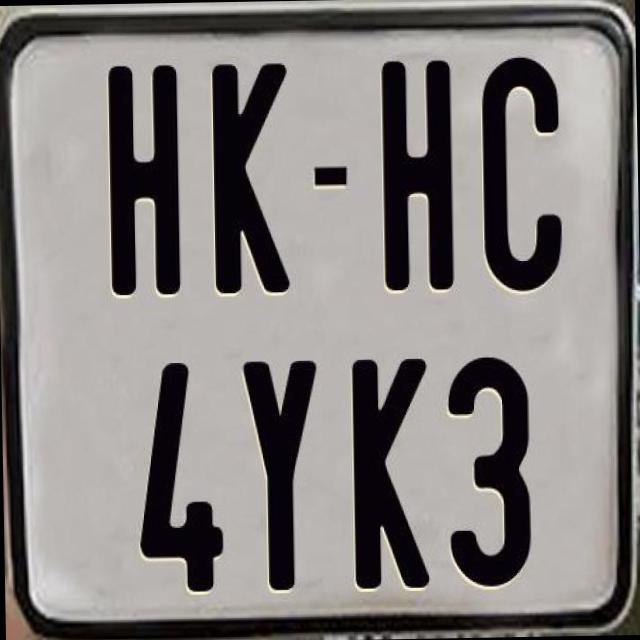3: (444, 354, 532, 586)
4: (134, 362, 221, 596)
C: (476, 56, 566, 300)
H: (377, 60, 457, 300), (104, 60, 182, 300)
K: (349, 354, 432, 592), (208, 60, 290, 296)
Y: (238, 359, 318, 595)
